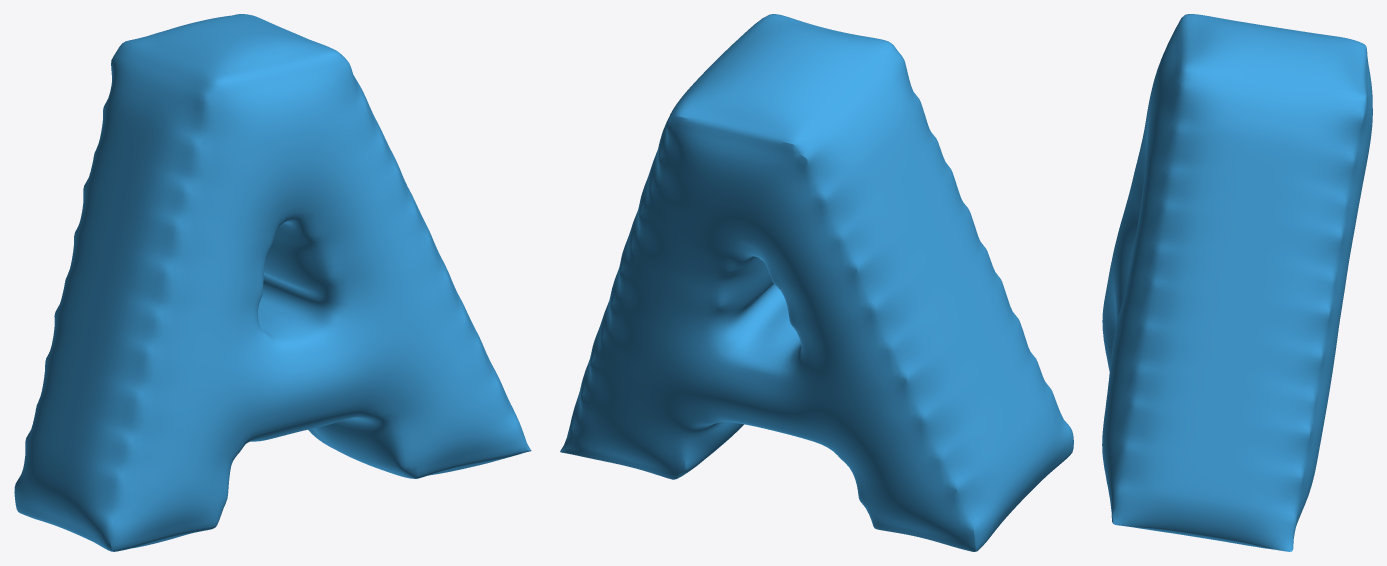
The model's file is LetraA.gltf.
3 renders of one model, left to right at view 1: azimuth 30°, elevation 25°; view 2: azimuth 150°, elevation 25°; view 3: azimuth 270°, elevation 25°, orthographic. The views are drawn at different scales.
Visible parts, largest first — view 1: A; view 2: A; view 3: A.
Boxes of the visible parts, <box> form: A: <box>14,14,531,551</box>; A: <box>560,14,1073,551</box>; A: <box>1102,14,1372,551</box>.
Size of the model in its own units: 0.916 by 0.9151 by 0.5306.
